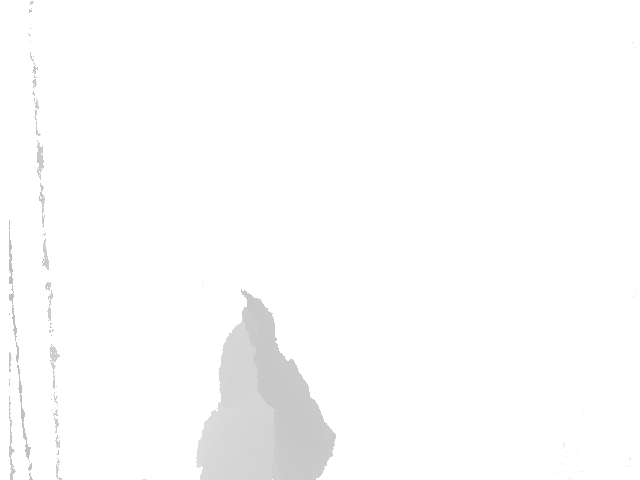hand: (238, 287, 279, 360)
head: (216, 326, 284, 410)
person: (194, 287, 338, 480)
